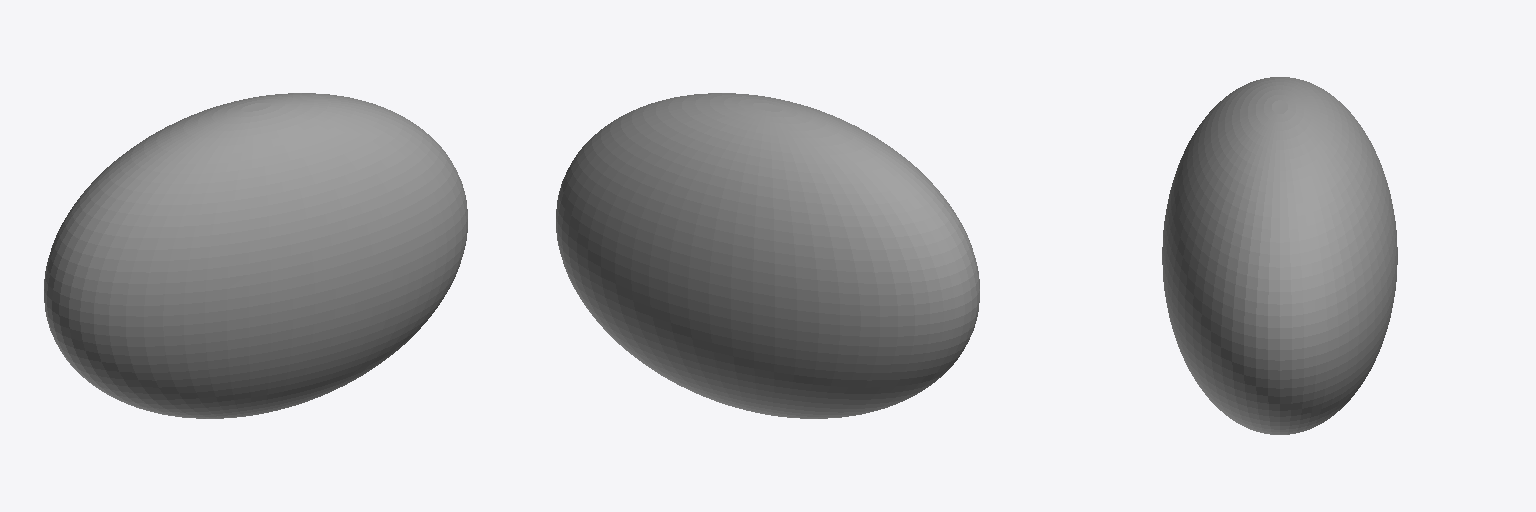
File: asteroid1.obj
3 renders of one model, left to right at view 1: azimuth 30°, elevation 25°; view 2: azimuth 150°, elevation 25°; view 3: azimuth 270°, elevation 25°, orthographic.
Visible parts, largest first — view 1: Asteroid1_Sphere.003; view 2: Asteroid1_Sphere.003; view 3: Asteroid1_Sphere.003.
Part boxes in pixels (x1,y1,x2,y2): Asteroid1_Sphere.003: (44, 93, 467, 418); Asteroid1_Sphere.003: (556, 93, 979, 418); Asteroid1_Sphere.003: (1162, 77, 1397, 434).
Bounding box in the file's own units: 2 × 1.39 × 0.9994.